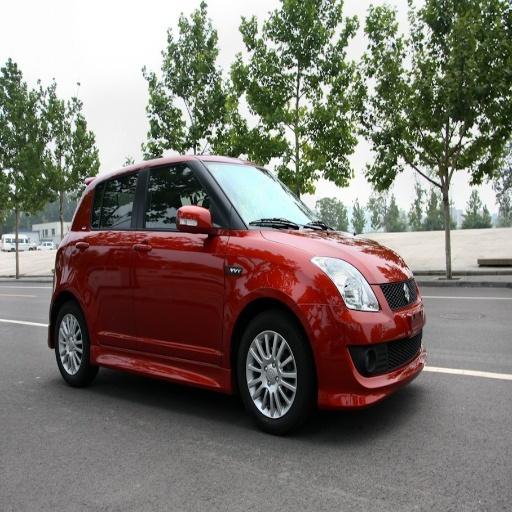front_bumper: (311, 277, 425, 407)
front_right_door: (133, 164, 226, 362)
front_right_light: (317, 260, 379, 311)
